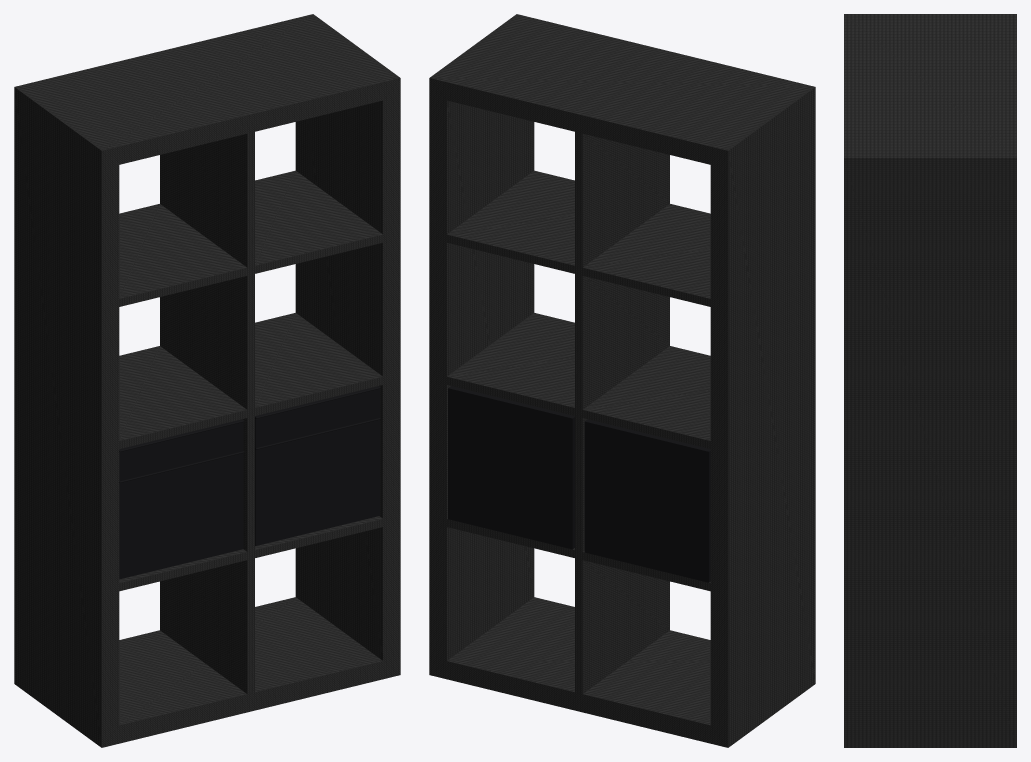
Rendered from KALLAX_Shelf_with_2_Accessories_Brown_Black_Vertical.obj.
3 views of the same model, side by side, from view 1: azimuth 30°, elevation 25°; view 2: azimuth 150°, elevation 25°; view 3: azimuth 270°, elevation 25° (orthographic).
Visible parts, largest first — view 1: Rectangle002, Line001, Line007, Line006; view 2: Rectangle002, Line001, Line006, Line007; view 3: Rectangle002.
Boxes of the visible parts, x1=… form: Rectangle002: x1=14, y1=14, x2=400, y2=747; Line001: x1=119, y1=132, x2=382, y2=693; Line007: x1=255, y1=386, x2=380, y2=545; Line006: x1=119, y1=419, x2=244, y2=579; Rectangle002: x1=429, y1=14, x2=815, y2=747; Line001: x1=447, y1=132, x2=710, y2=693; Line006: x1=584, y1=419, x2=710, y2=582; Line007: x1=448, y1=386, x2=574, y2=549; Rectangle002: x1=844, y1=14, x2=1016, y2=747.
Bounding box in the file's own units: 770 × 1470 × 390.
